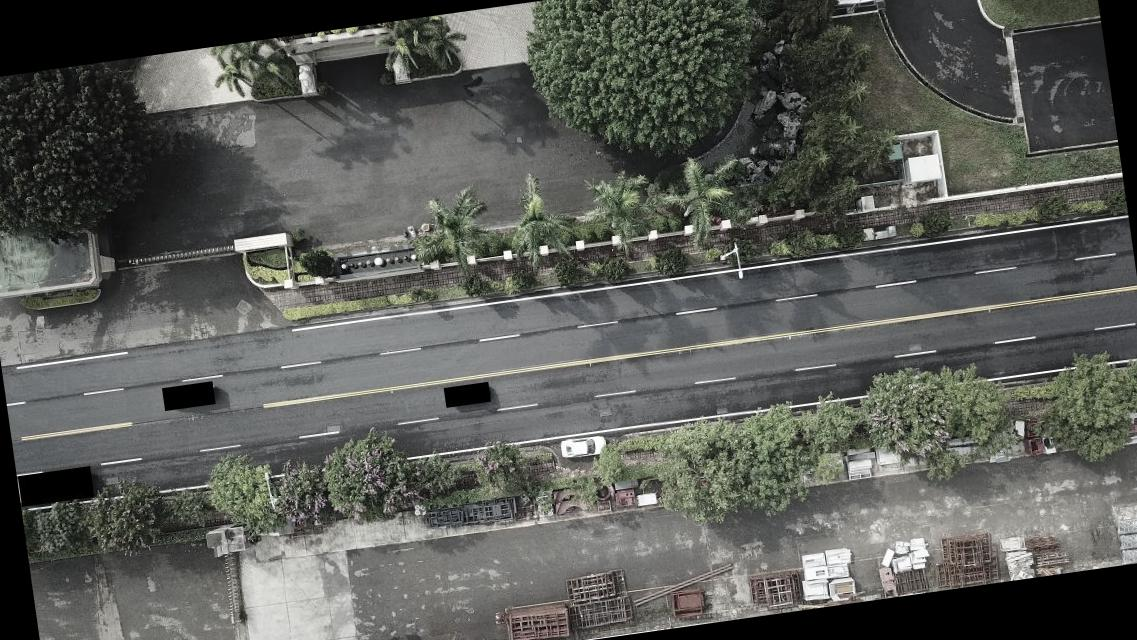vehicle: (559, 434, 607, 460)
